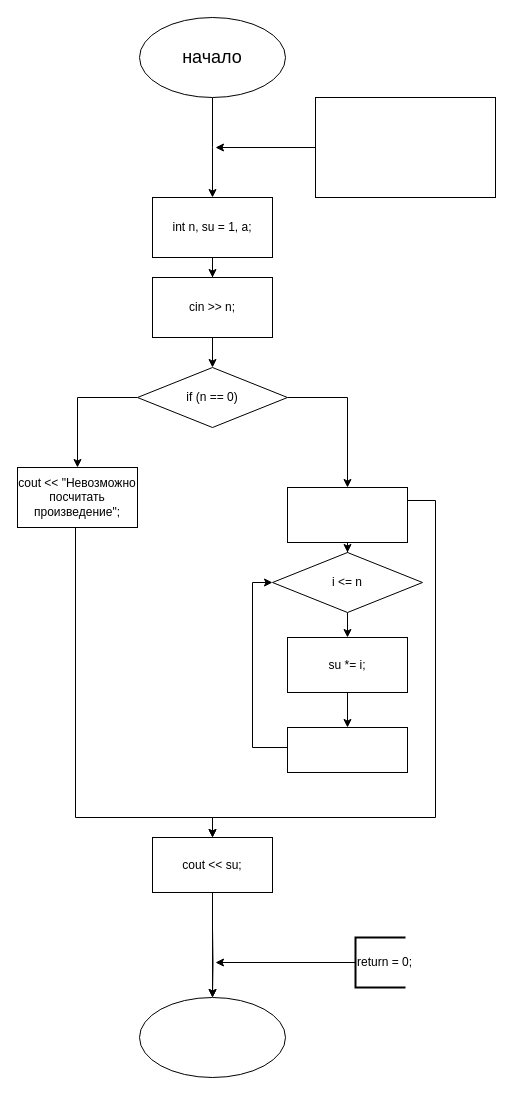
The diagram is 513 pixels wide and 1095 high, and some of its shapes have lost their labels. The centre of each missing label's shape, as x and y in pixels:
#include using namespace std; main(){: (405,147)
i++: (347,749)
int i = 1: (347,514)
конец: (212,1037)
